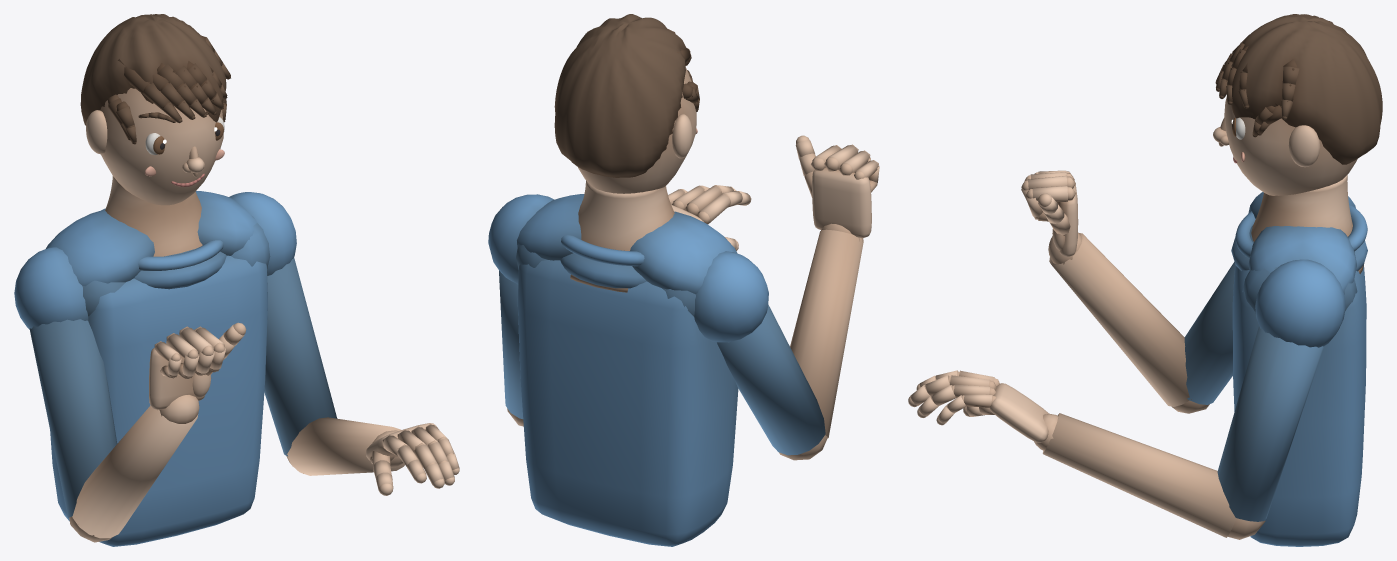
3 renders of one model, left to right at view 1: azimuth 30°, elevation 25°; view 2: azimuth 150°, elevation 25°; view 3: azimuth 270°, elevation 25°, orthographic.
Visible parts, largest first — view 1: LSC_Body; view 2: LSC_Body; view 3: LSC_Body.
Boxes of the visible parts, <box> form: LSC_Body: <box>14,14,459,546</box>; LSC_Body: <box>488,14,879,546</box>; LSC_Body: <box>908,14,1382,546</box>.
Size of the model in its own units: 0.4304 by 0.713 by 0.6104.
